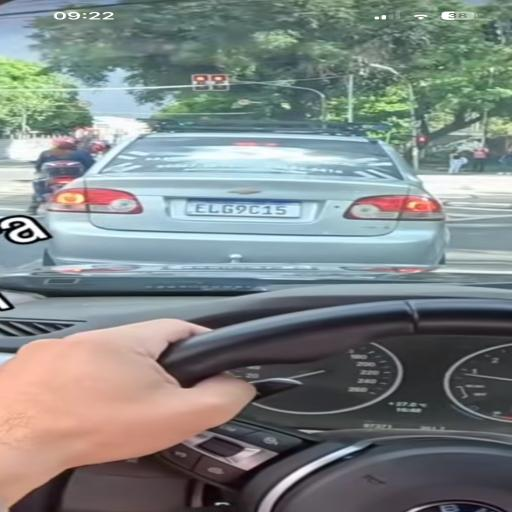detec-o-placas: (149, 173, 388, 231)
